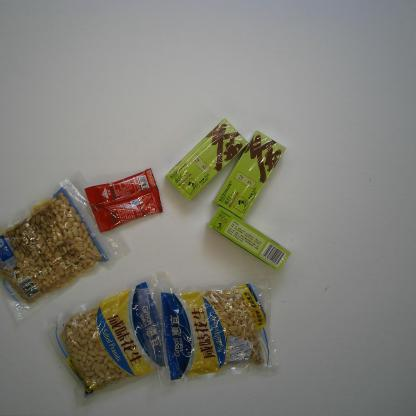Dried Fruit: (45, 268, 192, 410), (0, 179, 132, 322), (132, 273, 287, 391)
Instant Drink: (164, 115, 250, 202), (212, 128, 287, 220), (206, 205, 292, 273), (83, 167, 165, 233)
